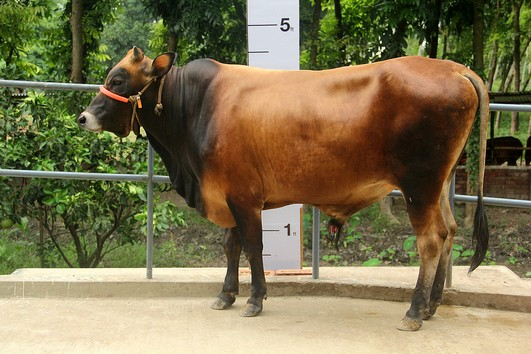cow: (77, 41, 493, 327)
